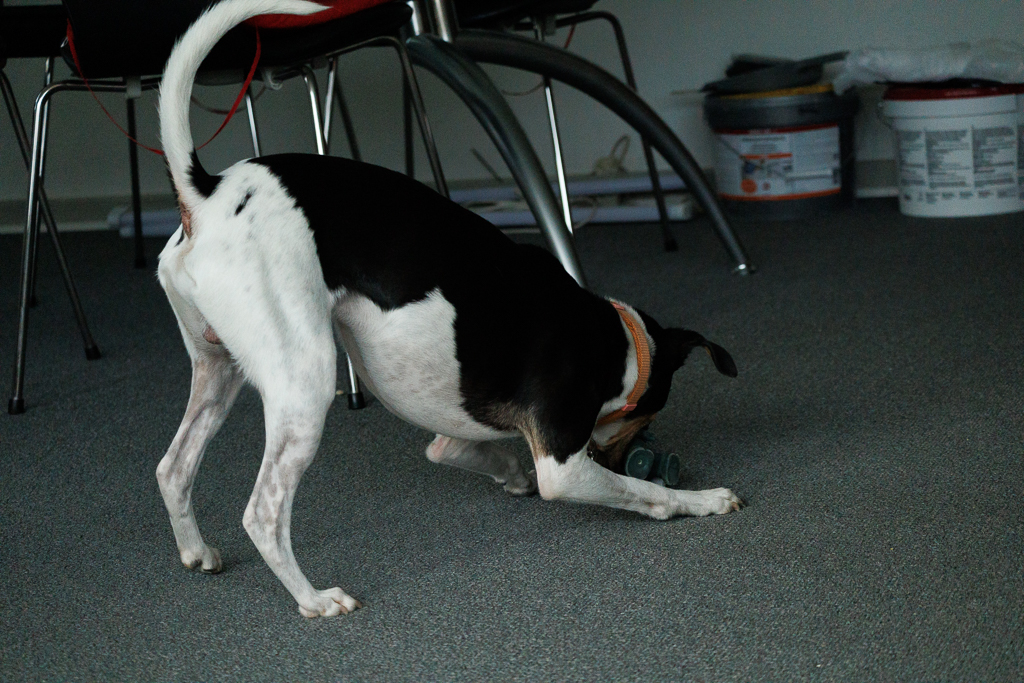Dog: (144, 0, 750, 626)
Humanoid: (616, 438, 692, 496)
